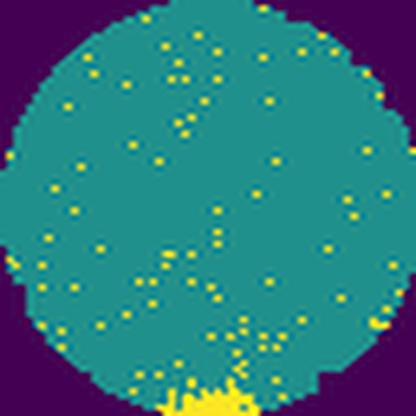Edge-Loc: (152, 369, 263, 416)
